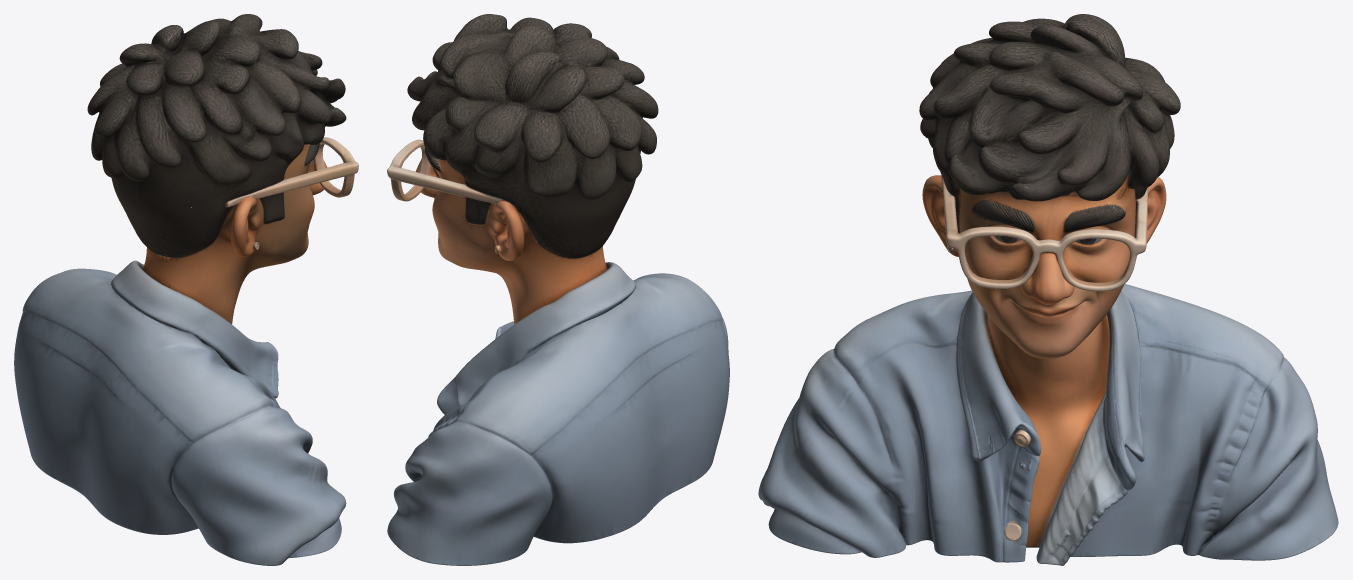
The model's file is myavatar.glb.
The picture shows the model from 3 angles, left to right: view 1: azimuth 30°, elevation 25°; view 2: azimuth 150°, elevation 25°; view 3: azimuth 270°, elevation 25°; orthographic projection. The views are drawn at different scales.
Visible parts, largest first — view 1: tripo_node_bd838b98-df5c-4ab3-b275-0e545b06cd2e; view 2: tripo_node_bd838b98-df5c-4ab3-b275-0e545b06cd2e; view 3: tripo_node_bd838b98-df5c-4ab3-b275-0e545b06cd2e.
Part boxes in pixels (<box>): tripo_node_bd838b98-df5c-4ab3-b275-0e545b06cd2e: <box>14,14,358,565</box>; tripo_node_bd838b98-df5c-4ab3-b275-0e545b06cd2e: <box>387,14,729,565</box>; tripo_node_bd838b98-df5c-4ab3-b275-0e545b06cd2e: <box>758,14,1338,565</box>.
Bounding box in the file's own units: 0.582 × 0.9499 × 0.9803.
Materials: 1 (1 with a texture image).
